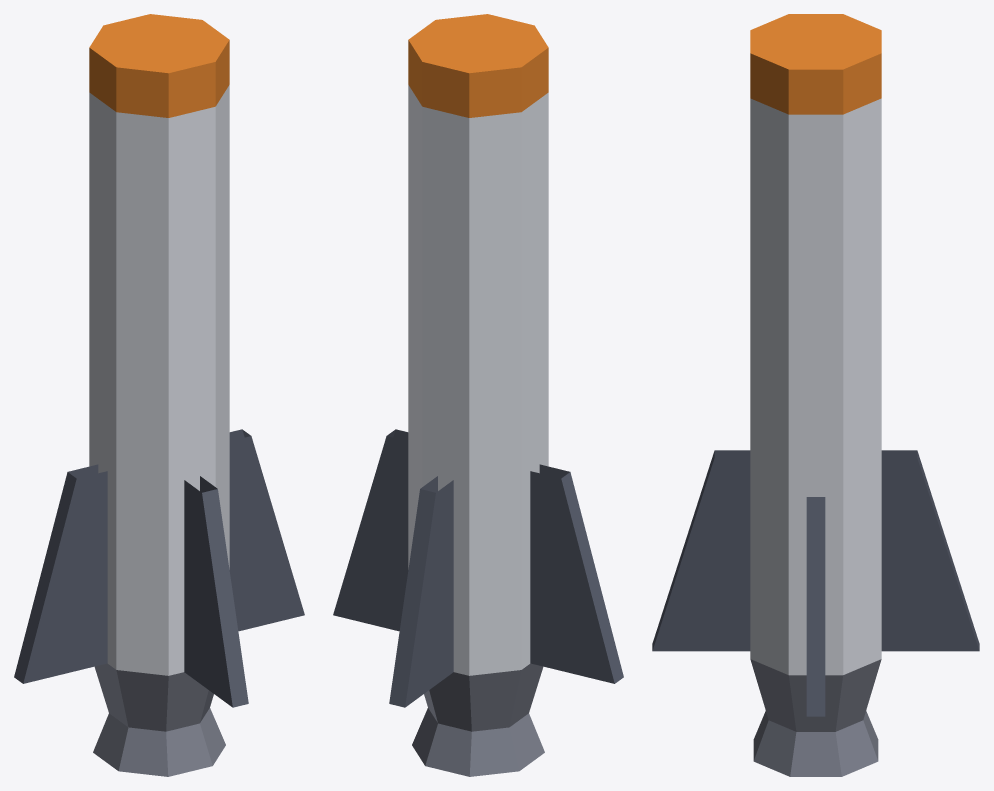
File: booster.obj
The picture shows the model from 3 angles, left to right: view 1: azimuth 30°, elevation 25°; view 2: azimuth 150°, elevation 25°; view 3: azimuth 270°, elevation 25°; orthographic projection.
Visible parts, largest first — view 1: booster; view 2: booster; view 3: booster.
Boxes of the visible parts, x1,y1,x2,y2 form: booster: (14, 14, 304, 776); booster: (333, 14, 623, 776); booster: (652, 14, 979, 776).
Bounding box in the file's own units: 4.6 × 11 × 4.6.
